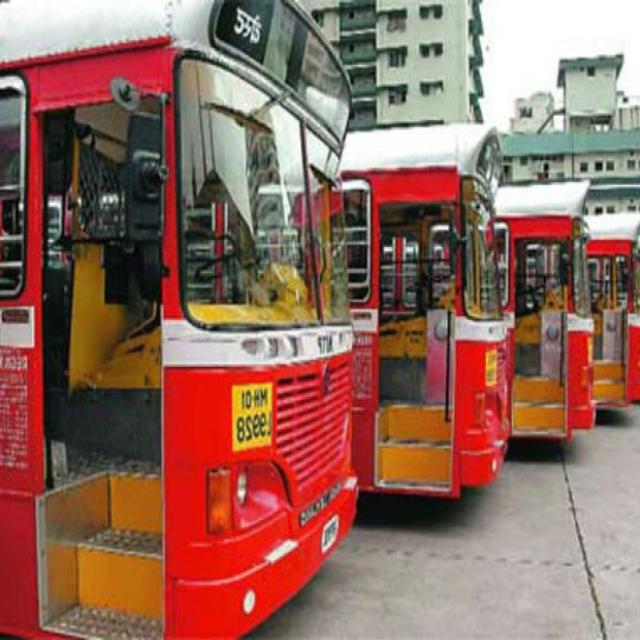bus: (0, 2, 358, 636), (341, 124, 510, 498)
